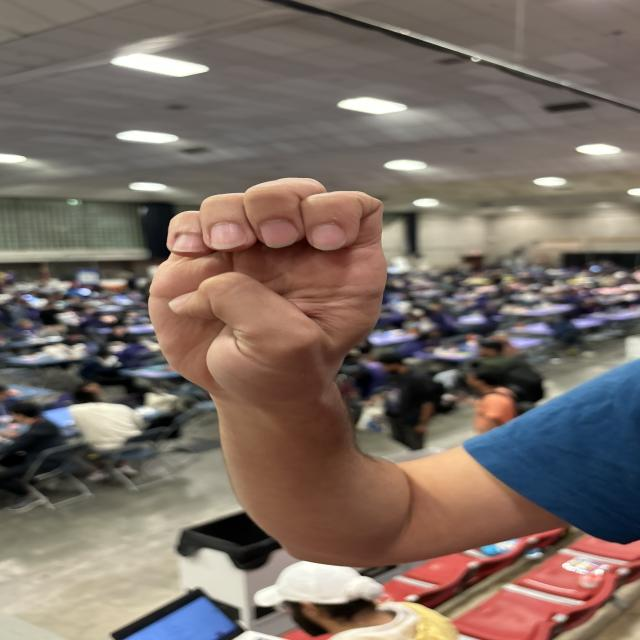E: (122, 156, 425, 413)
